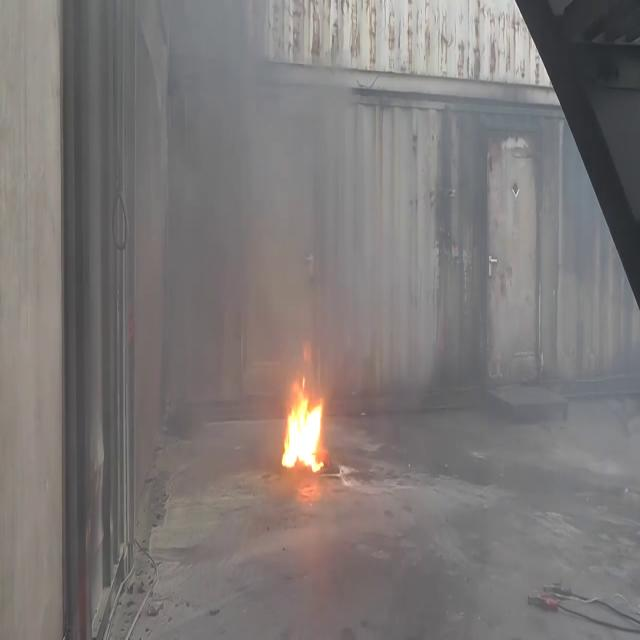Fire: (278, 378, 329, 478)
Smoke: (115, 7, 411, 408)
